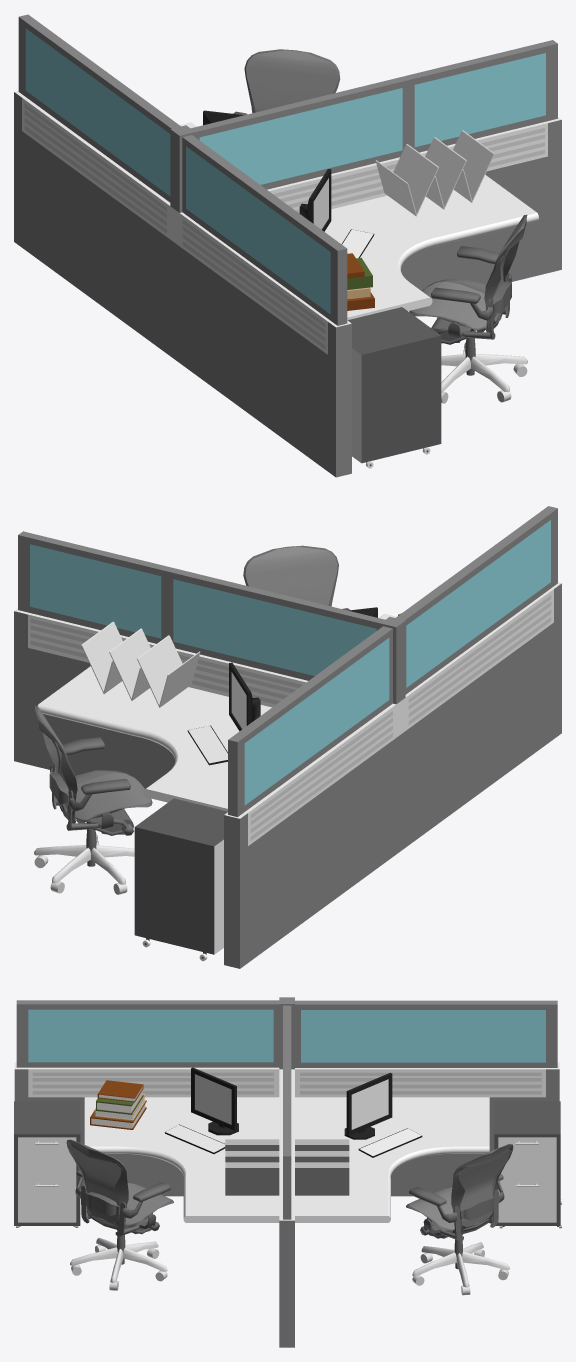
3 views of the same model, one above another, from view 1: azimuth 30°, elevation 25°; view 2: azimuth 150°, elevation 25°; view 3: azimuth 270°, elevation 25° (orthographic). The views are drawn at different scales.
Parts seen in each view (by area): view 1: Group_011, Group_010, Group_013, Group_014, Group_024, Component#1_001, Component#1_010, Group_022, Component#1_004, Component#1_007, Group_023, Group_021 (+4 smaller); view 2: Group_010, Group_013, Group_011, Group_029, Group_028, Component#1_010, Component#1_001, Group_026, Component#1_007, Component#1_004, Group_027, Group_025 (+5 smaller); view 3: Group_013, Group_011, Group_028, Group_024, Group_014, Group_029, Group_010, Component#1_004, Component#1_007, Component#1_001, Component#1_010, Group_027 (+18 smaller).
Part boxes in pixels (<box>): Group_011: <box>170,125,351,477</box>; Group_010: <box>191,40,561,290</box>; Group_013: <box>14,14,180,355</box>; Group_014: <box>348,307,441,463</box>; Group_024: <box>324,174,538,320</box>; Component#1_001: <box>409,226,523,344</box>; Component#1_010: <box>233,49,295,114</box>; Group_022: <box>375,144,438,216</box>; Component#1_004: <box>422,214,527,331</box>; Component#1_007: <box>289,50,340,104</box>; Group_023: <box>453,130,494,202</box>; Group_021: <box>425,137,466,209</box>; Group_010: <box>14,531,384,788</box>; Group_013: <box>224,626,396,968</box>; Group_011: <box>380,506,561,854</box>; Group_029: <box>134,798,227,954</box>; Group_028: <box>38,666,271,811</box>; Component#1_010: <box>38,718,152,835</box>; Component#1_001: <box>288,545,350,610</box>; Group_026: <box>136,635,200,707</box>; Component#1_007: <box>34,706,144,823</box>; Component#1_004: <box>243,546,293,597</box>; Group_027: <box>81,621,122,693</box>; Group_025: <box>109,628,150,700</box>; Group_013: <box>295,1000,559,1196</box>; Group_011: <box>14,997,294,1196</box>; Group_028: <box>295,1097,489,1222</box>; Group_024: <box>84,1097,279,1222</box>; Group_014: <box>14,1101,80,1225</box>; Group_029: <box>494,1101,560,1225</box>; Group_010: <box>279,1004,294,1347</box>; Component#1_004: <box>88,1147,173,1236</box>; Component#1_007: <box>406,1151,491,1240</box>; Component#1_001: <box>66,1139,145,1230</box>; Component#1_010: <box>434,1144,513,1235</box>; Group_027: <box>295,1162,349,1195</box>.
Size of the model in its own units: 96 by 54.5 by 141.
